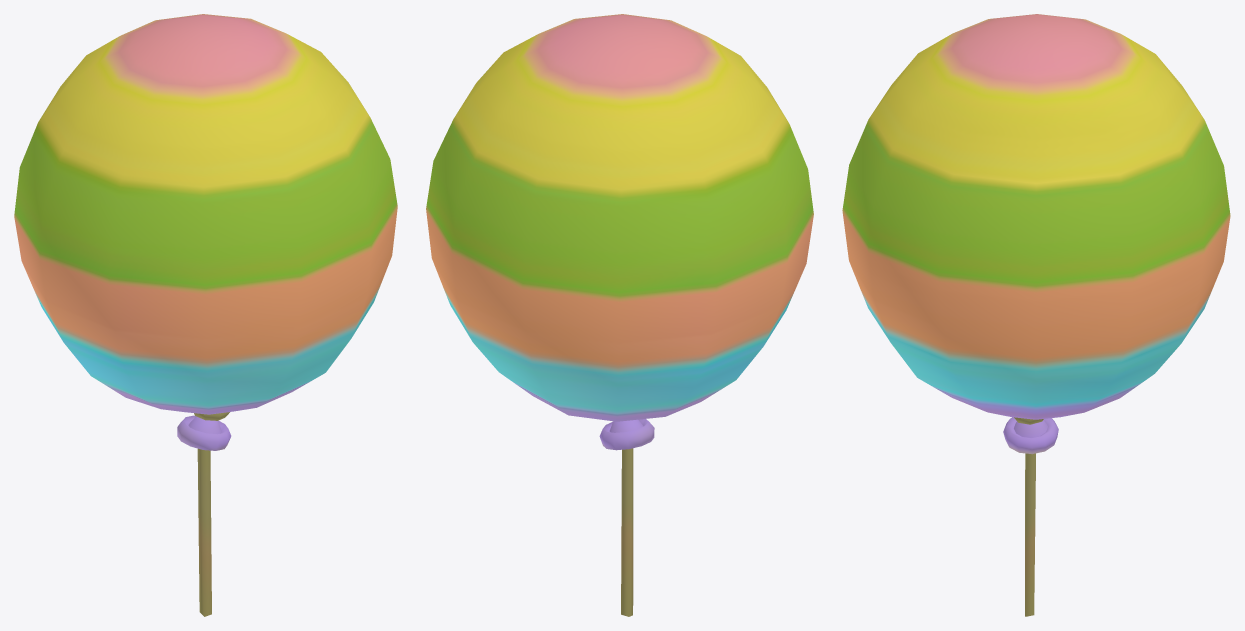
The model's file is balloon-4.glb.
3 renders of one model, left to right at view 1: azimuth 30°, elevation 25°; view 2: azimuth 150°, elevation 25°; view 3: azimuth 270°, elevation 25°, orthographic.
Size of the model in its own units: 5.36 by 8.94 by 5.36.
Materials: 1 (1 with a texture image).
